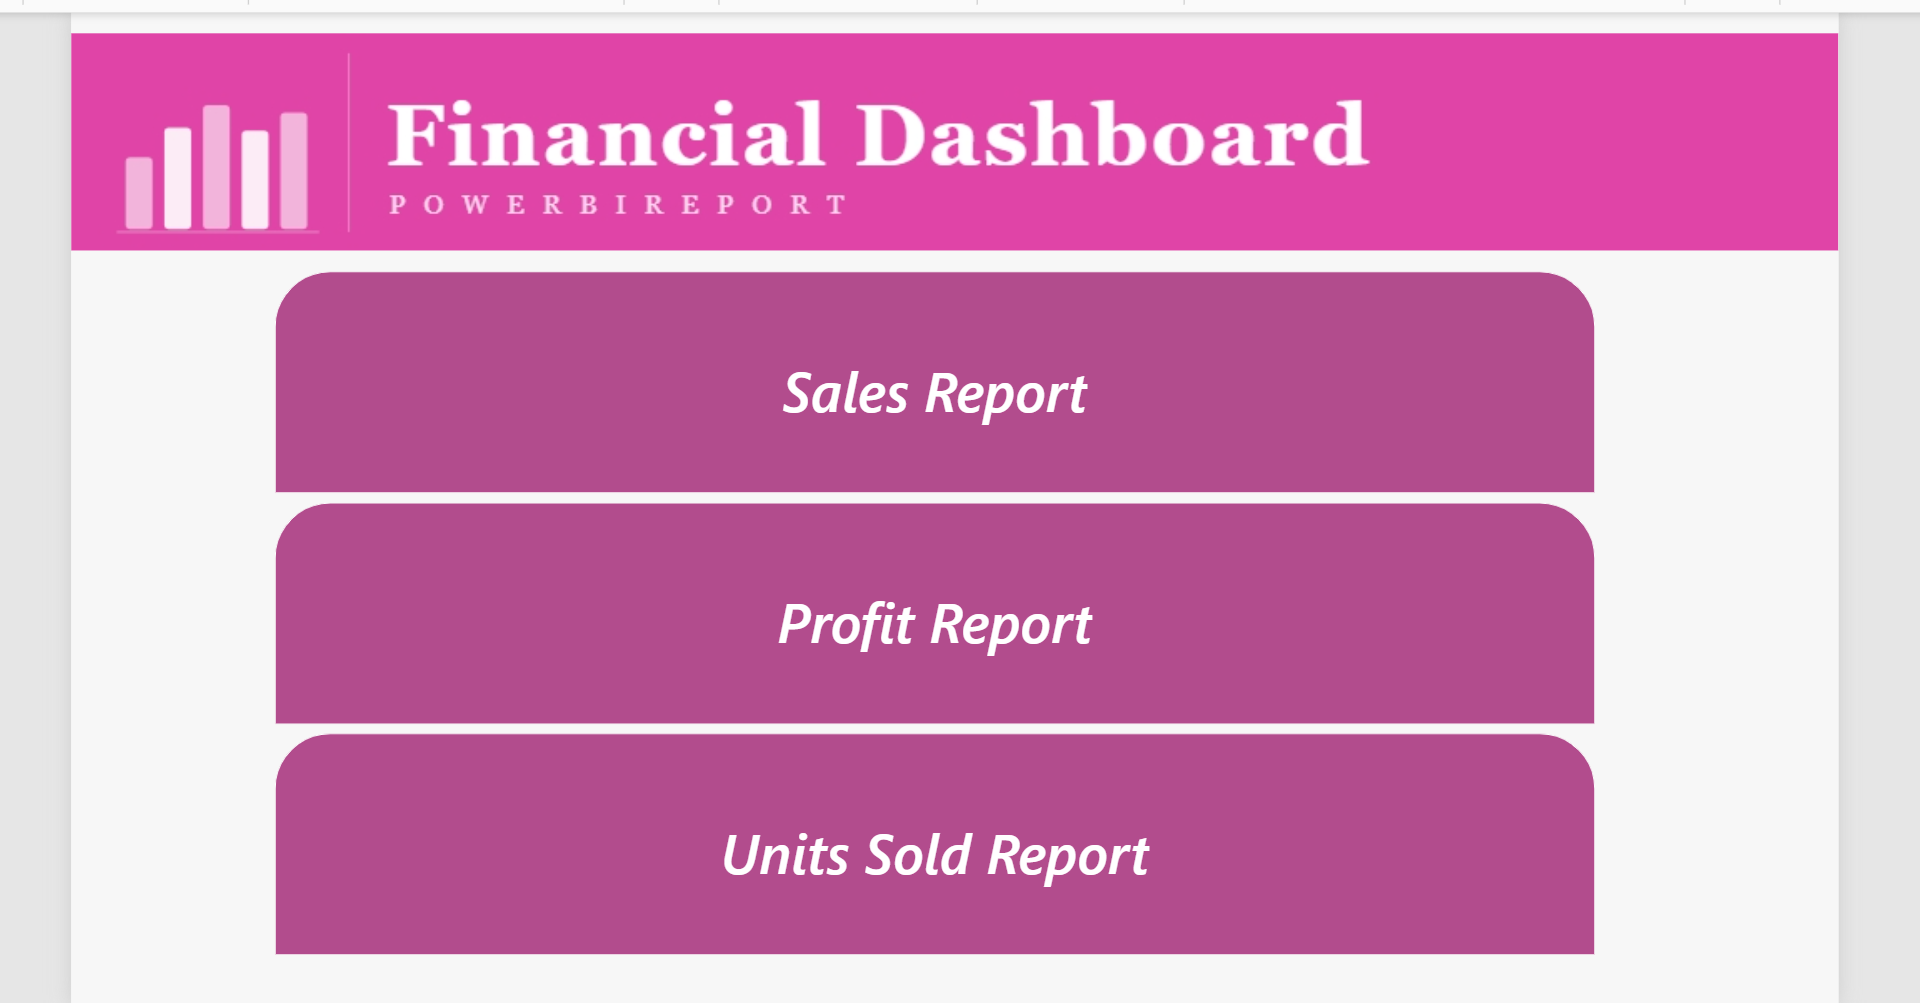

What the dashboard file says about the page in this screenshot:
{"tool":"powerbi","page":{"name":"Index","canvas":[1920,1080],"ordinal":0},"visuals":[{"type":"pageNavigator","box":[221.3,281.5,1435.3,743.4],"z":0},{"type":"image","box":[0,0,1920.8,281.5],"z":1000}]}

Visuals, with their boxes on the page's 1920x1080 design canvas (x1, y1, x2, y2). These are canvas units, not pixel positions in the 1920x1003 screenshot, which may show the page scaled, cropped or inside an application window:
pageNavigator: 221, 282, 1657, 1025
image: 0, 0, 1921, 282
